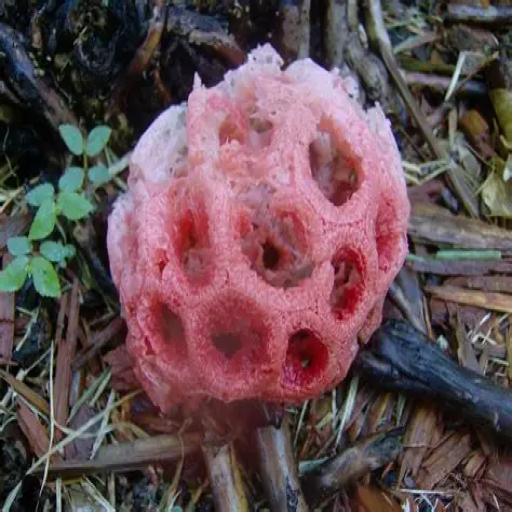Red Cage Fungus: (103, 40, 411, 432)
